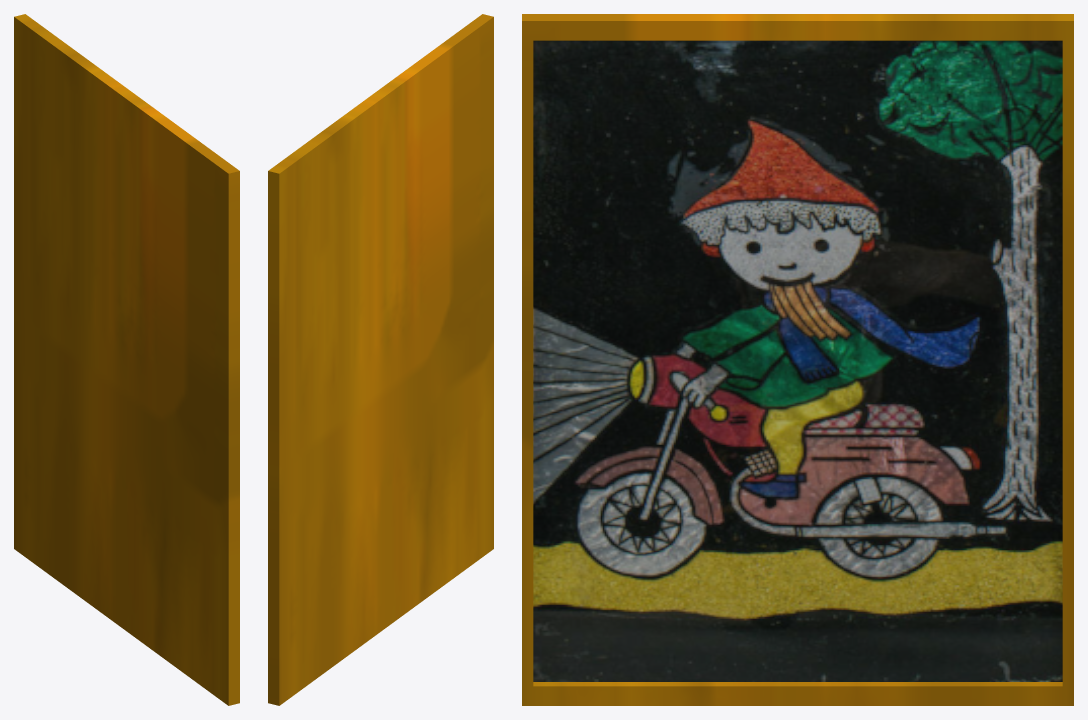
File: obj_Pictureframe_Sandmann.obj
3 renders of one model, left to right at view 1: azimuth 30°, elevation 25°; view 2: azimuth 150°, elevation 25°; view 3: azimuth 270°, elevation 25°, orthographic. The views are drawn at different scales.
Visible parts, largest first — view 1: obj_Pictureframe_Sandmann; view 2: obj_Pictureframe_Sandmann; view 3: obj_Pictureframe_Sandmann.
Boxes of the visible parts, <box> form: obj_Pictureframe_Sandmann: <box>14,14,239,705</box>; obj_Pictureframe_Sandmann: <box>268,14,493,705</box>; obj_Pictureframe_Sandmann: <box>522,14,1073,705</box>.
Bounding box in the file's own units: 0.0198 × 0.8892 × 0.6494.
